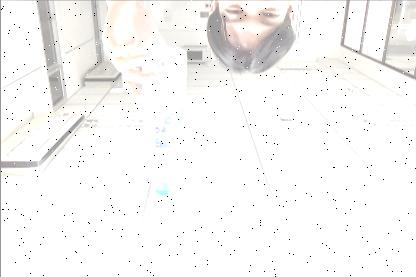Plastic Bottle: (136, 43, 188, 196)
